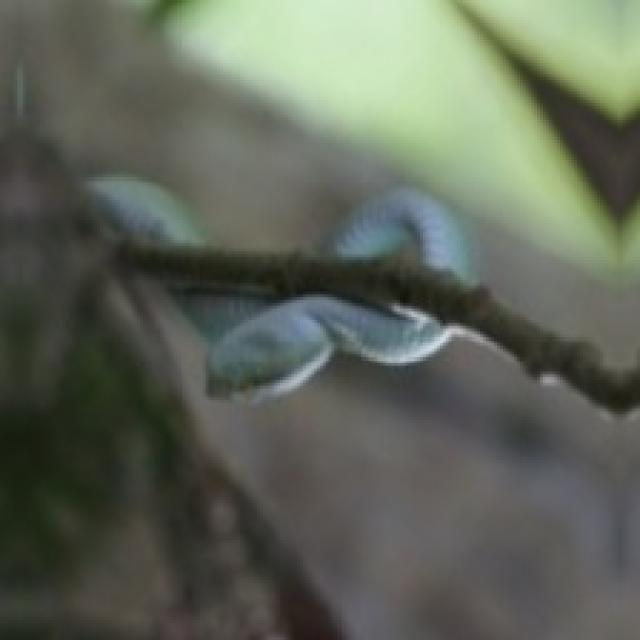north ph temple pitviper: (209, 189, 469, 400), (86, 174, 240, 260)
